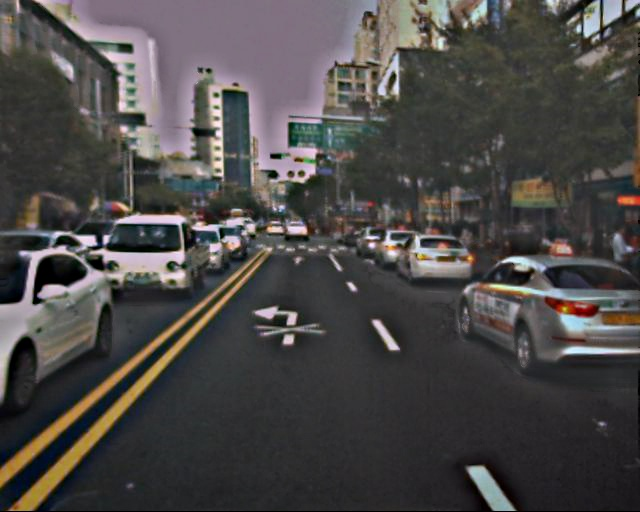person: (604, 224, 639, 310)
